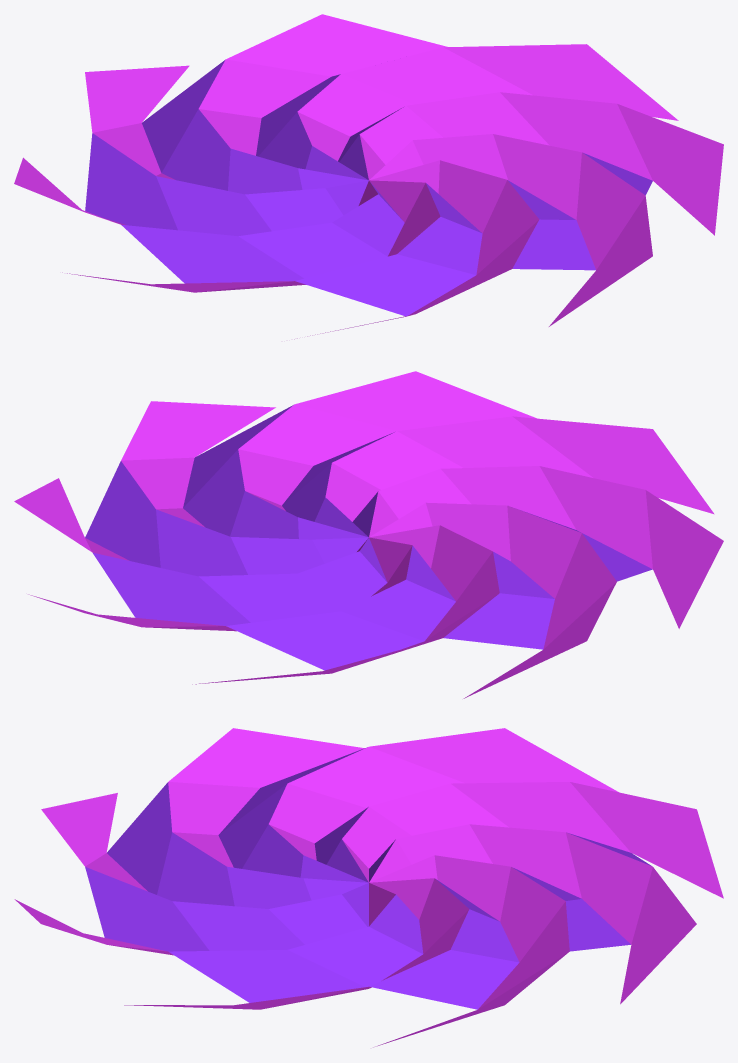
File: portal.glb
3 views of the same model, one above another, from view 1: azimuth 30°, elevation 25°; view 2: azimuth 150°, elevation 25°; view 3: azimuth 270°, elevation 25° (orthographic).
Parts seen in each view (by area): view 1: Circle; view 2: Circle; view 3: Circle.
Boxes of the visible parts, x1,y1,x2,y2 form: Circle: (14,14,723,339); Circle: (14,371,723,698); Circle: (14,728,723,1047).
Bounding box in the file's own units: 1 × 0.05 × 1.
Materials: 1 (1 with a texture image).
